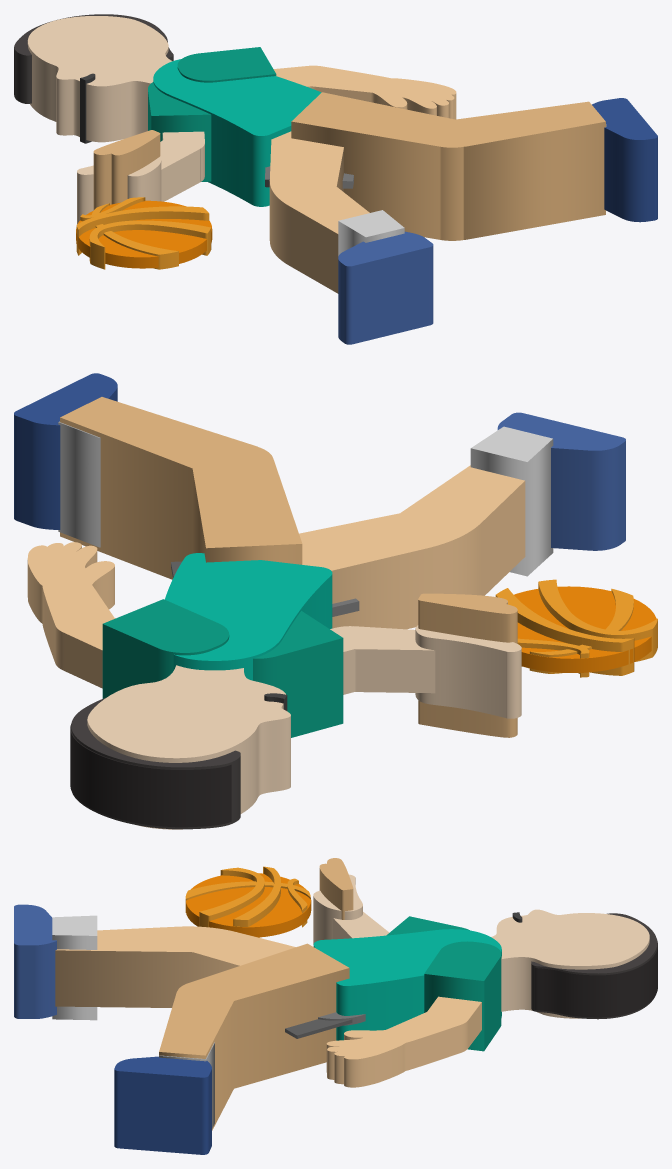
The model's file is emoji_u26f9_1f3fb_200d_2642.glb.
3 renders of one model, top to bottom at view 1: azimuth 30°, elevation 25°; view 2: azimuth 150°, elevation 25°; view 3: azimuth 270°, elevation 25°, orthographic. The views are drawn at different scales.
Visible parts, largest first — view 1: emoji_u26f9_1f3fb_200d_2642; view 2: emoji_u26f9_1f3fb_200d_2642; view 3: emoji_u26f9_1f3fb_200d_2642.
Part boxes in pixels (bbox=[...]): emoji_u26f9_1f3fb_200d_2642: bbox=[14, 14, 657, 344]; emoji_u26f9_1f3fb_200d_2642: bbox=[14, 373, 657, 829]; emoji_u26f9_1f3fb_200d_2642: bbox=[14, 858, 657, 1154].
Size of the model in its own units: 0.0291 by 0.0052 by 0.0332.
